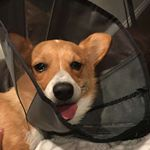puppy: (7, 26, 117, 150)
